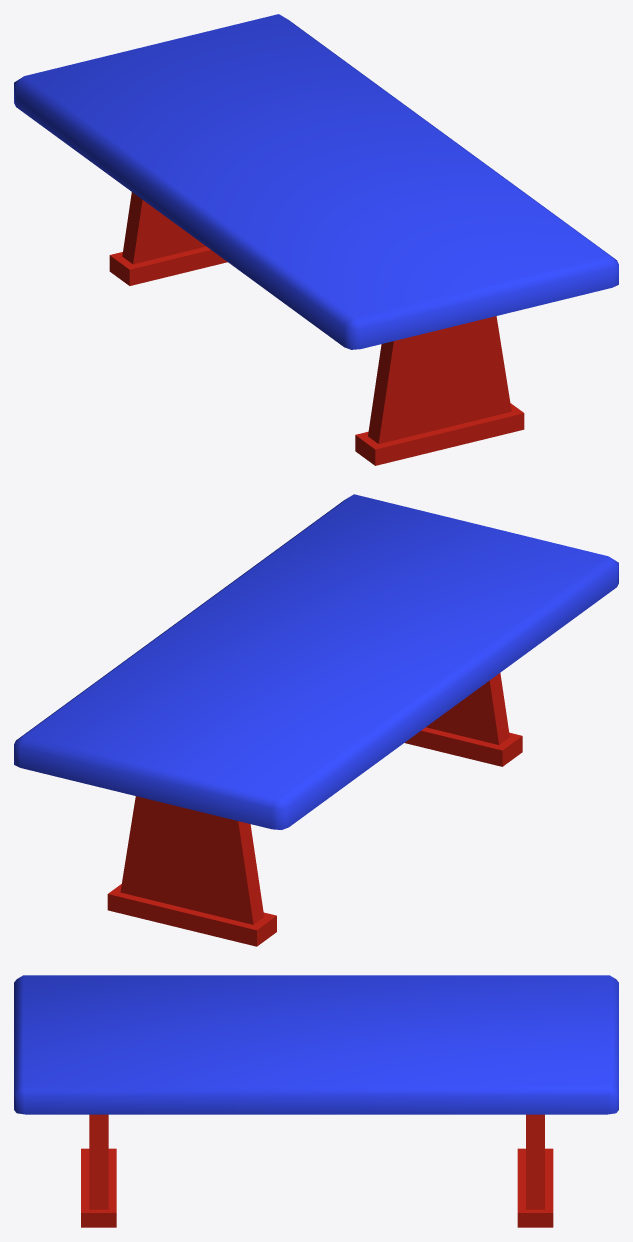
Rendered from ban 4 Japanese.FBX.
3 views of the same model, one above another, from view 1: azimuth 30°, elevation 25°; view 2: azimuth 150°, elevation 25°; view 3: azimuth 270°, elevation 25° (orthographic). The views are drawn at different scales.
Visible parts, largest first — view 1: Box1192; view 2: Box1192; view 3: Box1192.
Part boxes in pixels (x1,y1,x2,y2): Box1192: (14, 14, 618, 465); Box1192: (14, 494, 618, 946); Box1192: (14, 975, 618, 1227).
Bounding box in the file's own units: 2.2 × 1.43 × 4.76.
